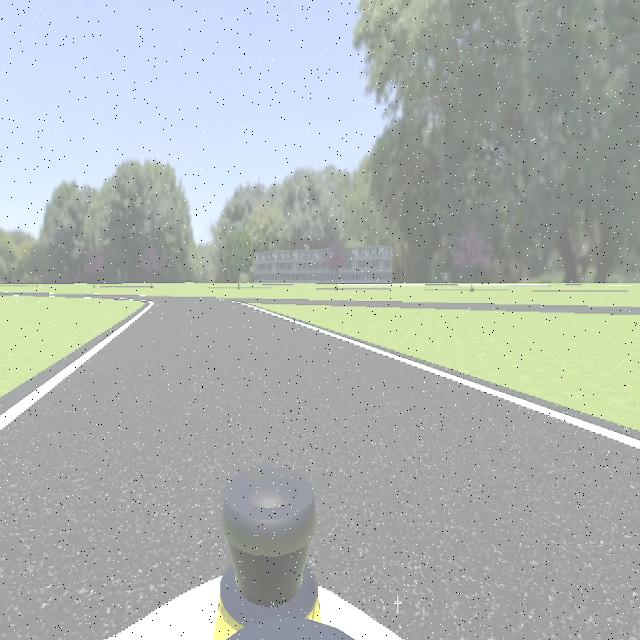road: (0, 299, 640, 640)
solid_line: (243, 303, 640, 452), (0, 303, 153, 434)
